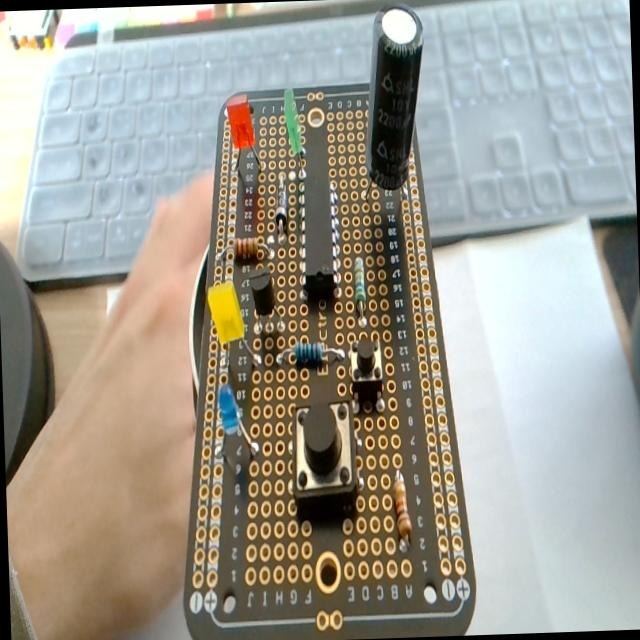Electrolytic capacitor: (362, 2, 431, 192)
IC: (298, 174, 338, 304)
diode: (272, 178, 288, 239)
led: (216, 380, 258, 466), (225, 94, 260, 180), (207, 278, 244, 344), (282, 89, 304, 158)
resistor: (391, 472, 411, 544), (352, 257, 367, 318), (294, 340, 322, 368), (232, 236, 260, 260)
switch: (290, 398, 361, 515), (349, 333, 384, 409)
transistor: (248, 266, 284, 340)
